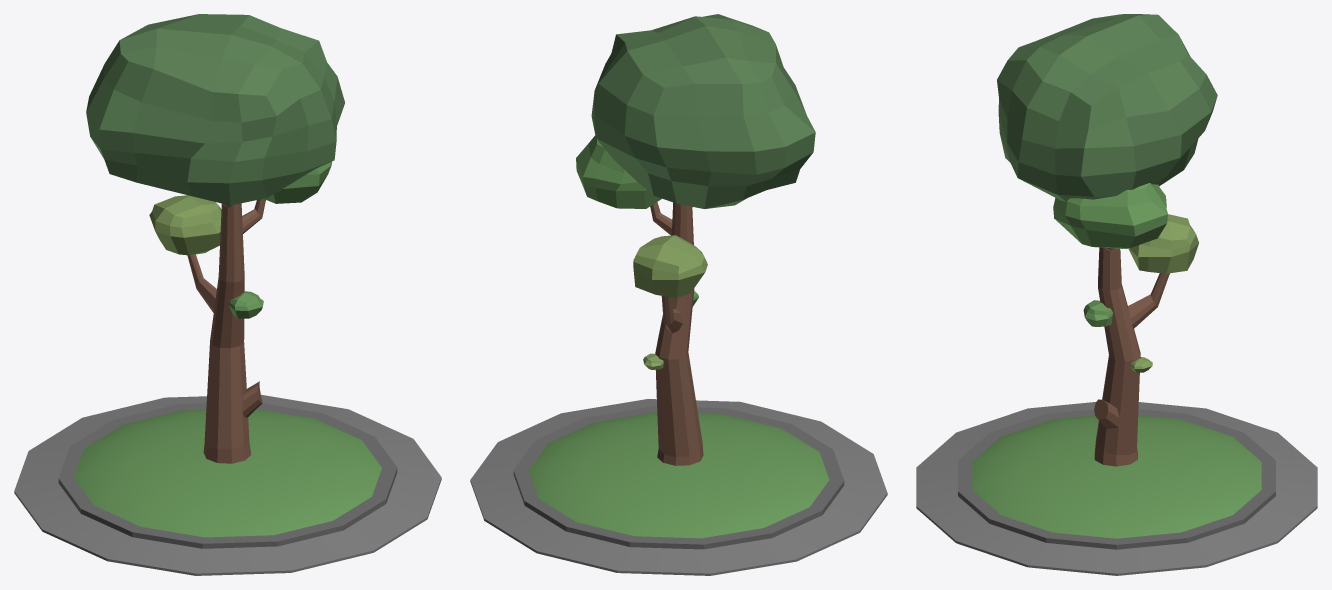
The model's file is Boom_met_onderkant.fbx.
The picture shows the model from 3 angles, left to right: view 1: azimuth 30°, elevation 25°; view 2: azimuth 150°, elevation 25°; view 3: azimuth 270°, elevation 25°; orthographic projection. The views are drawn at different scales.
Parts seen in each view (by area): view 1: pCube2, pSphere2, pSphere1, pCylinder1, pSphere3, pCube3, pCube1, pCube4; view 2: pCube2, pSphere2, pSphere1, pSphere3, pCylinder1, pCube3, pCube1; view 3: pCube2, pSphere2, pSphere1, pCylinder1, pSphere3, pCube1, pCube3, pCube4.
Part boxes in pixels (left/top/right/bottom): pCube2: left=86, top=14, right=344, bottom=205; pSphere2: left=74, top=409, right=381, bottom=537; pSphere1: left=14, top=394, right=441, bottom=575; pCylinder1: left=187, top=199, right=265, bottom=463; pSphere3: left=58, top=403, right=397, bottom=548; pCube3: left=149, top=195, right=221, bottom=255; pCube1: left=263, top=161, right=332, bottom=203; pCube4: left=228, top=291, right=263, bottom=318; pCube2: left=591, top=14, right=815, bottom=208; pSphere2: left=528, top=412, right=829, bottom=538; pSphere1: left=470, top=399, right=887, bottom=575; pSphere3: left=513, top=406, right=844, bottom=549; pCylinder1: left=650, top=202, right=703, bottom=465; pCube3: left=633, top=235, right=707, bottom=298; pCube1: left=576, top=135, right=661, bottom=208; pCube2: left=997, top=14, right=1217, bottom=201; pSphere2: left=972, top=415, right=1261, bottom=538; pSphere1: left=916, top=402, right=1317, bottom=575; pCylinder1: left=1094, top=247, right=1169, bottom=466; pSphere3: left=958, top=409, right=1275, bottom=549; pCube1: left=1053, top=183, right=1167, bottom=248; pCube3: left=1128, top=214, right=1198, bottom=273; pCube4: left=1083, top=300, right=1112, bottom=326.
Bounding box in the file's own units: 18.94 × 22.71 × 18.47.
